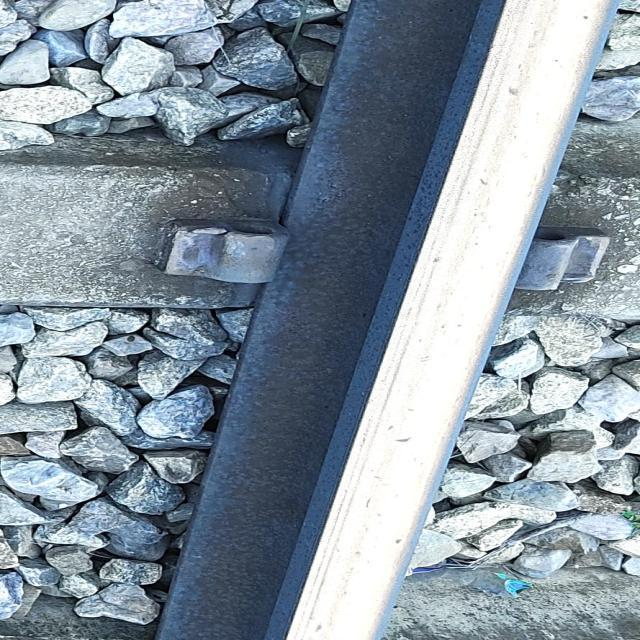Missing Fastener: (81, 216, 287, 309), (518, 226, 626, 305)
